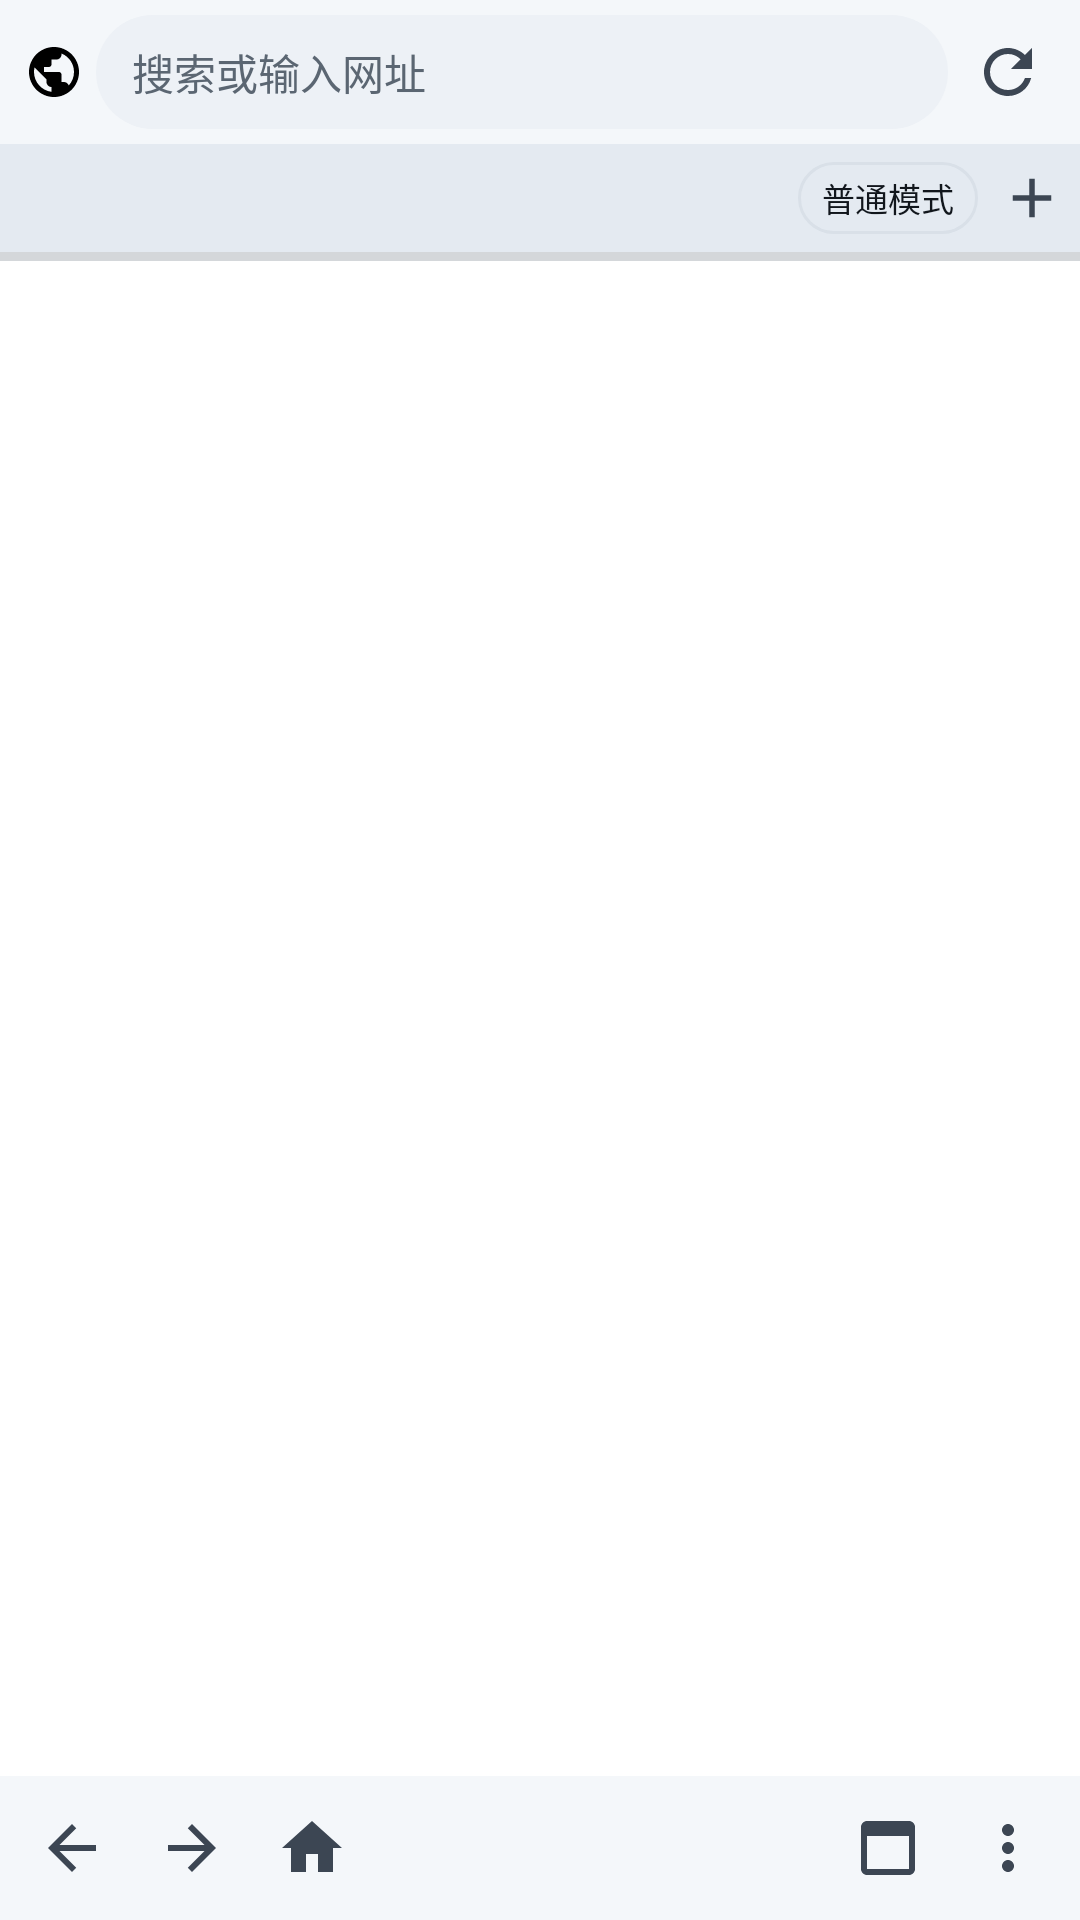

Named icons in this screenshot (1080 x 1920) and their centers, [x,y]:
主页: [312,1846]
前进: [192,1848]
后退: [72,1848]
新标签页: [1032,198]
未知来源: [54,72]
标签页: [888,1848]
菜单: [1008,1848]
重新加载: [1008,72]
